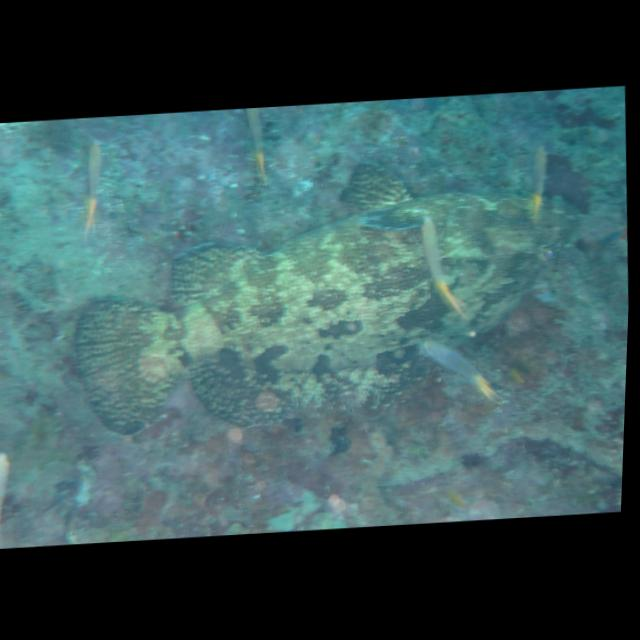Groupers: (70, 158, 582, 437)
